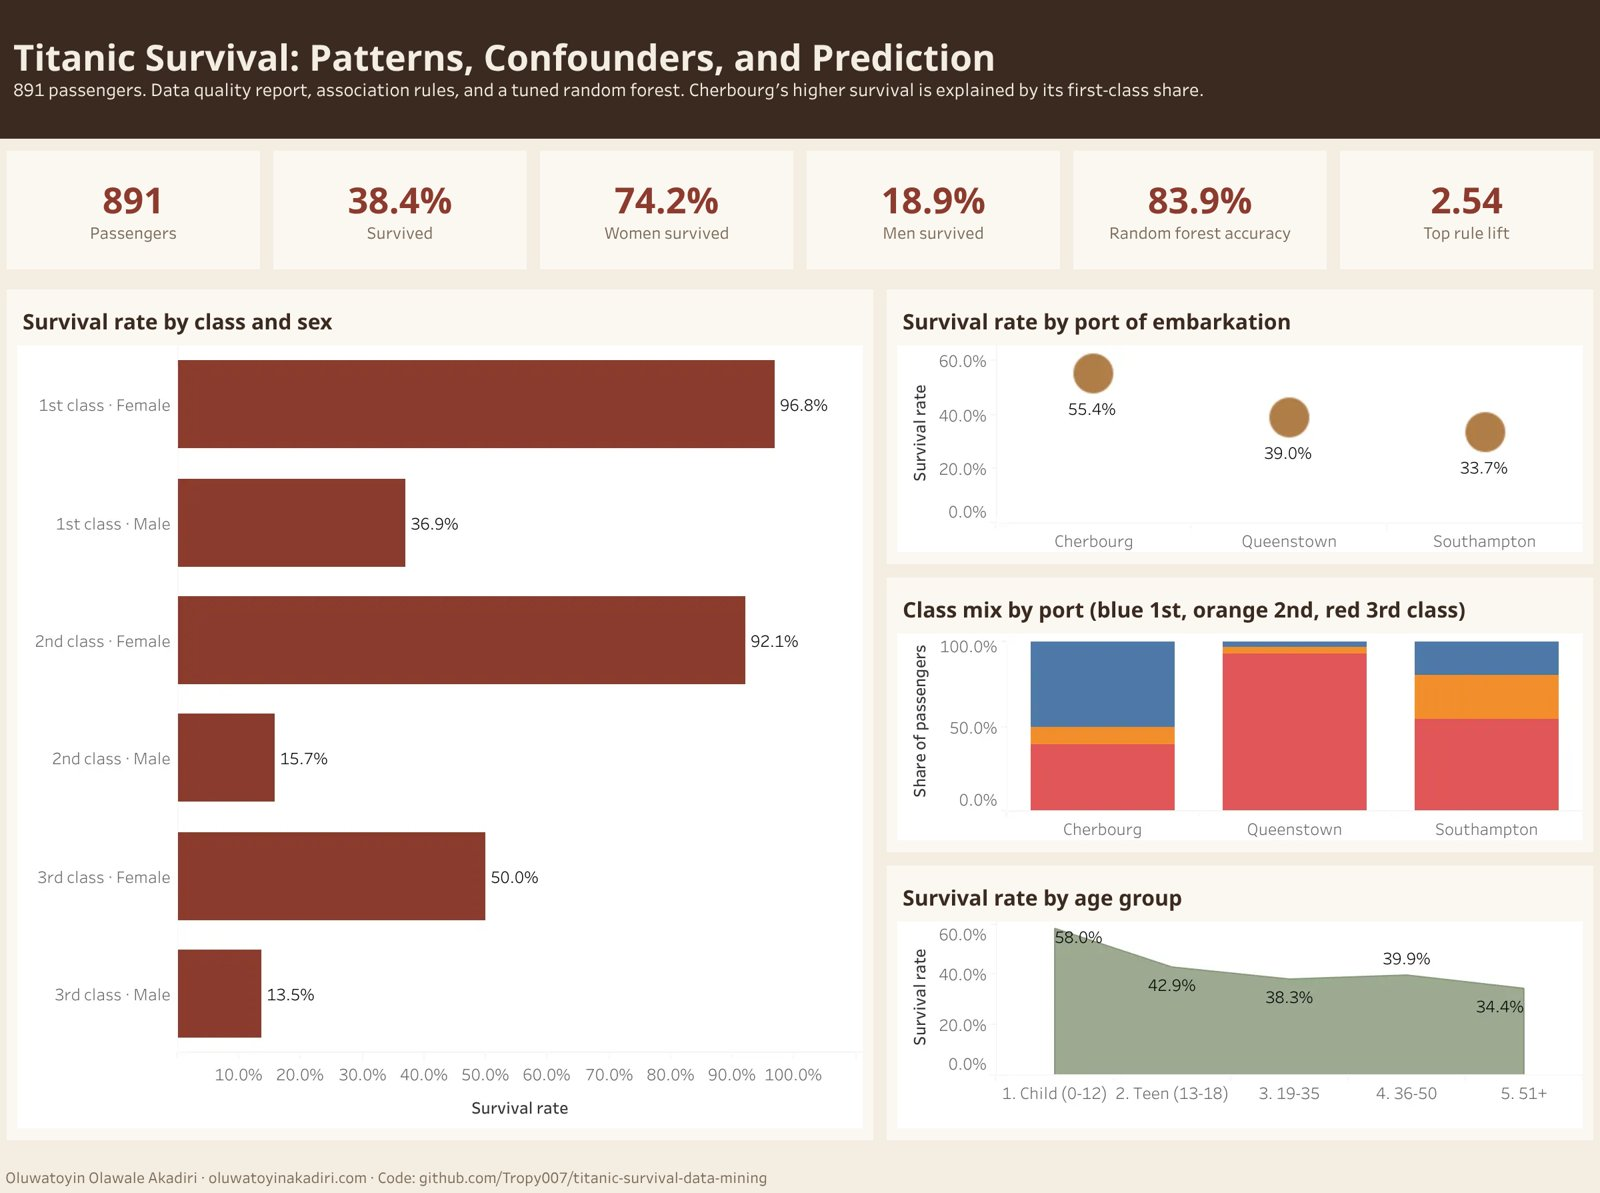

The page's visual inventory and layout, read from the dashboard file:
{"tool":"tableau","page":{"name":"Titanic Survival","canvas":[1200,900],"ordinal":0},"visuals":[{"type":"text","box":[0,0,1200,103.5]},{"type":"text","box":[0,108,200,99]},{"type":"text","box":[200,108,200,99]},{"type":"text","box":[400,108,200,99]},{"type":"text","box":[600,108,200,99]},{"type":"text","box":[800,108,200,99]},{"type":"text","box":[1000,108,200,99]},{"type":"worksheet","title":"Class and sex","mark":"Bar","rows":["Group"],"cols":["Survival rate"],"box":[0,211.5,660,648]},{"type":"worksheet","title":"By port","mark":"Circle","rows":["Survival rate"],"cols":["Port"],"box":[660,211.5,540,216]},{"type":"worksheet","title":"Port class mix","mark":"Bar","rows":["Share of passengers"],"cols":["Port"],"box":[660,427.5,540,216]},{"type":"worksheet","title":"By age","mark":"Area","rows":["Survival rate"],"cols":["Age group"],"box":[660,643.5,540,216]},{"type":"text","box":[0,864,1200,36]}]}

Visuals, with their boxes in screenshot pixels (x1, y1, x2, y2), scaled from the page's 1200x900 canvas onto the 1600x1193 screenshot:
text: region(0, 0, 1599, 137)
text: region(0, 143, 267, 274)
text: region(267, 143, 533, 274)
text: region(533, 143, 800, 274)
text: region(800, 143, 1067, 274)
text: region(1067, 143, 1333, 274)
text: region(1333, 143, 1599, 274)
"Class and sex" worksheet (Bar marks): region(0, 280, 880, 1139)
"By port" worksheet (Circle marks): region(880, 280, 1599, 567)
"Port class mix" worksheet (Bar marks): region(880, 567, 1599, 853)
"By age" worksheet (Area marks): region(880, 853, 1599, 1139)
text: region(0, 1145, 1599, 1192)
